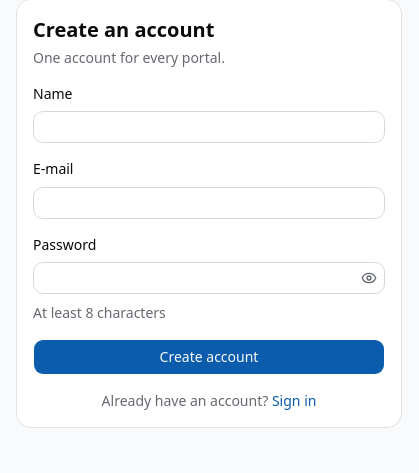
Test: RegisterPage › shows a taken e-mail on its field
This screenshot has width=419, height=473.
Type "Ana Client" into the field labelled "Name" at (209, 127), box [33,111,385,143]
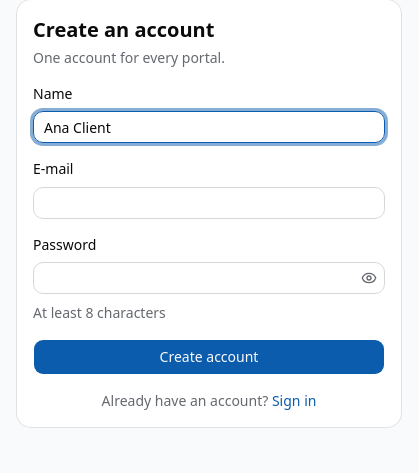
Type "ana@example.com" into the field labelled "E-mail" at (209, 202), box [33,186,385,218]
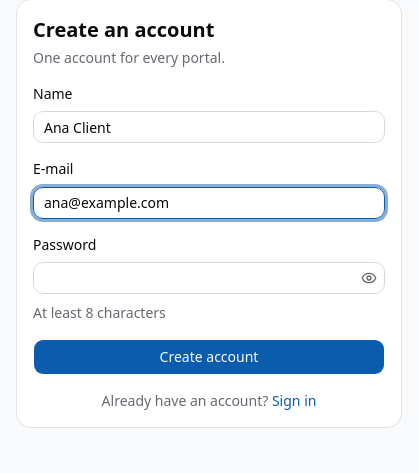
Type "correct-horse" into the password field labelled "Password" at (195, 278), box [34,262,357,294]
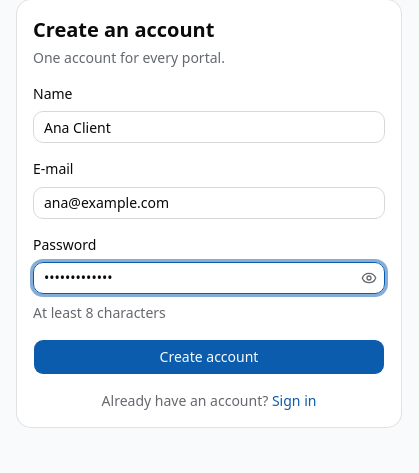
Click the button "Create account" at (209, 357), box [33,339,385,375]
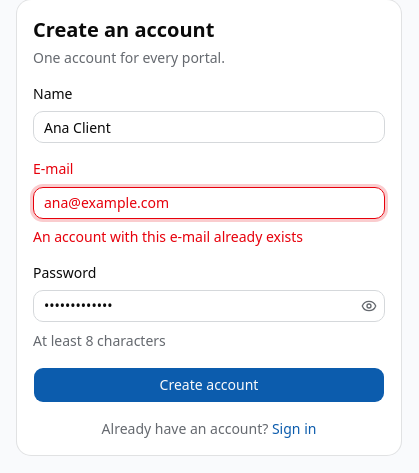
Now the text "An account with this e-mail already exists" is shown once, box [33,226,303,246]
